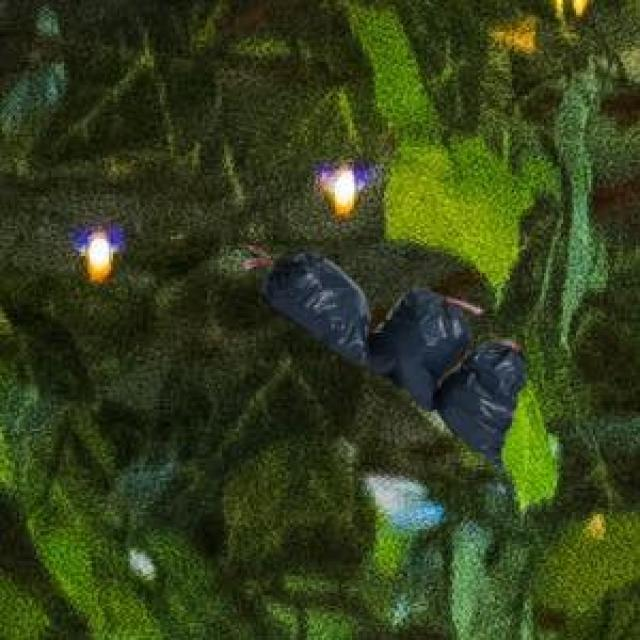miscellaneous trash: (256, 250, 523, 463)
